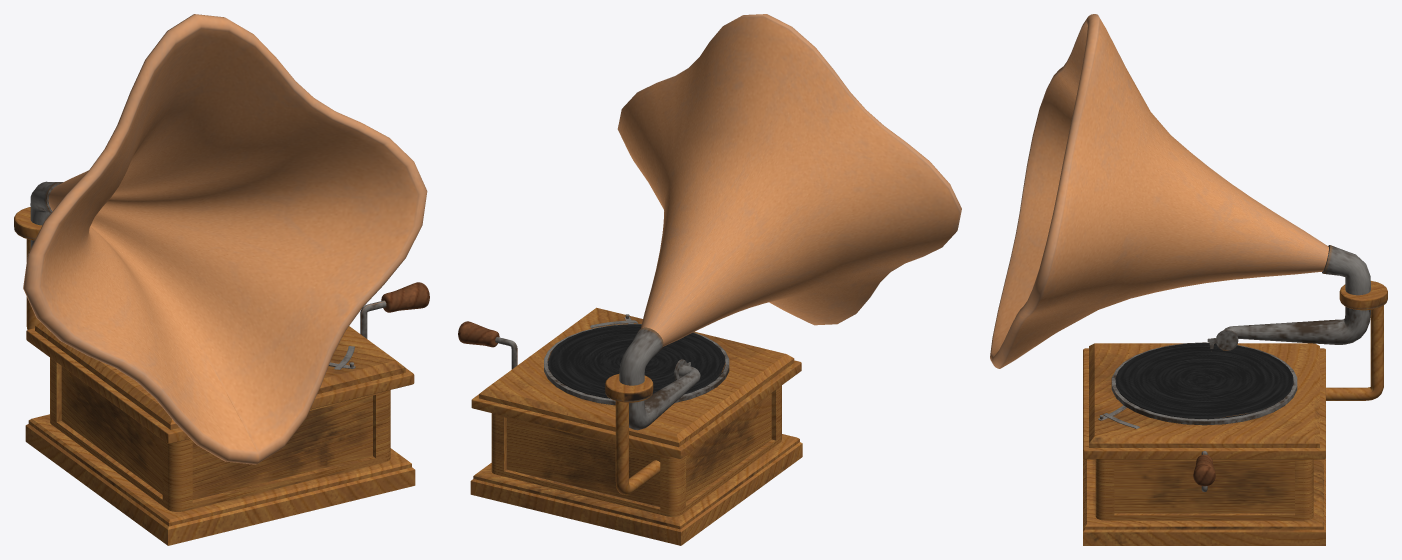
File: gramophone.glb
3 views of the same model, side by side, from view 1: azimuth 30°, elevation 25°; view 2: azimuth 150°, elevation 25°; view 3: azimuth 270°, elevation 25° (orthographic). The views are drawn at different scales.
Parts seen in each view (by area): view 1: Base_Right, Handle_Right; view 2: Base_Right, Disk_Right, Handle_Right; view 3: Base_Right, Disk_Right, Handle_Right.
Part boxes in pixels (left/top/right/bottom): Base_Right: left=14, top=14, right=427, bottom=545; Handle_Right: left=360, top=282, right=429, bottom=338; Base_Right: left=470, top=14, right=961, bottom=545; Disk_Right: left=547, top=324, right=725, bottom=398; Handle_Right: left=458, top=321, right=517, bottom=369; Base_Right: left=990, top=14, right=1387, bottom=545; Disk_Right: left=1115, top=343, right=1293, bottom=419; Handle_Right: left=1193, top=451, right=1215, bottom=491.
Bounding box in the file's own units: 0.873 × 0.8715 × 0.7139.
Materials: 1 (1 with a texture image).
